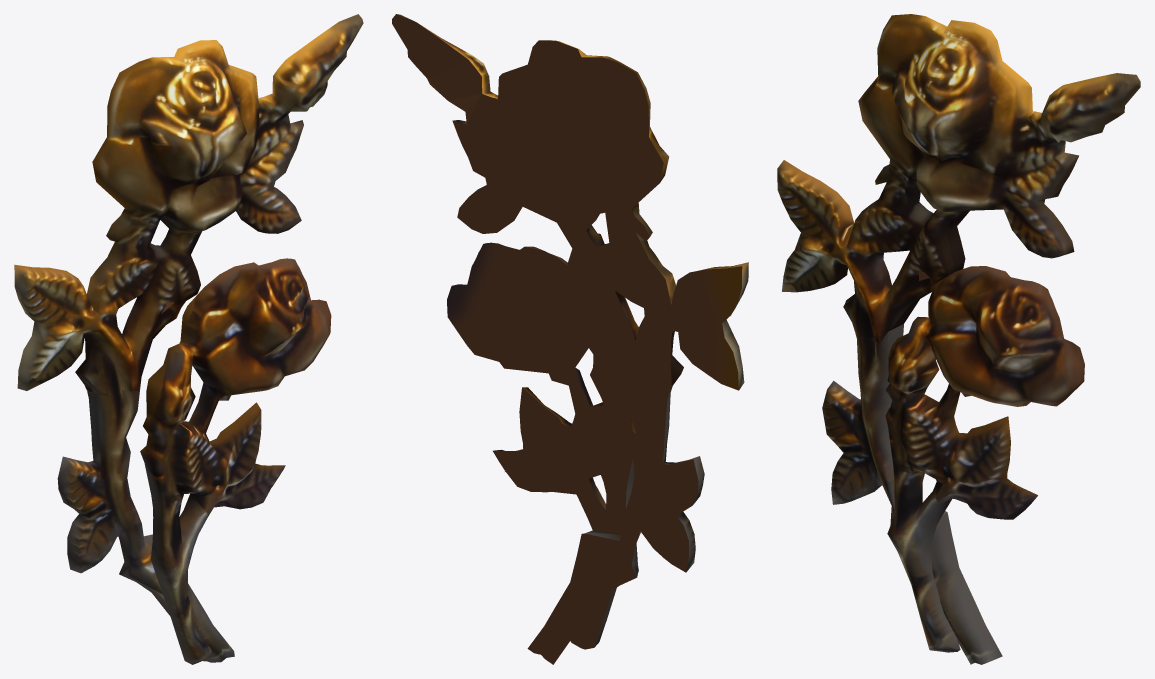
The model's file is Art2649.fbx.
The picture shows the model from 3 angles, left to right: view 1: azimuth 30°, elevation 25°; view 2: azimuth 150°, elevation 25°; view 3: azimuth 330°, elevation 25°; orthographic projection. The views are drawn at different scales.
Visible parts, largest first — view 1: Mesh; view 2: Mesh; view 3: Mesh.
Part boxes in pixels (bbox=[...]): Mesh: bbox=[14, 14, 363, 664]; Mesh: bbox=[392, 14, 748, 664]; Mesh: bbox=[777, 14, 1140, 664].
Size of the model in its own units: 12.27 by 20.93 by 2.09.
Materials: 1 (1 with a texture image).
